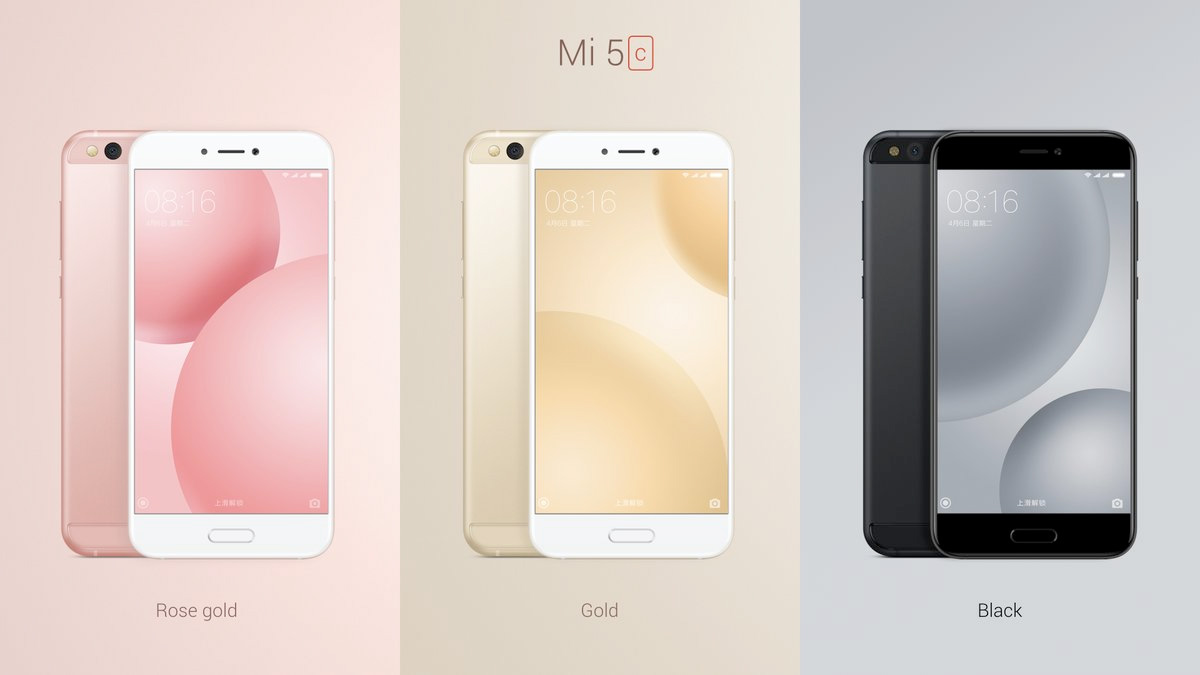smartphone: (930, 130, 1140, 559), (127, 131, 335, 560), (529, 131, 735, 559), (860, 129, 948, 558), (460, 130, 545, 557), (58, 130, 140, 558)
